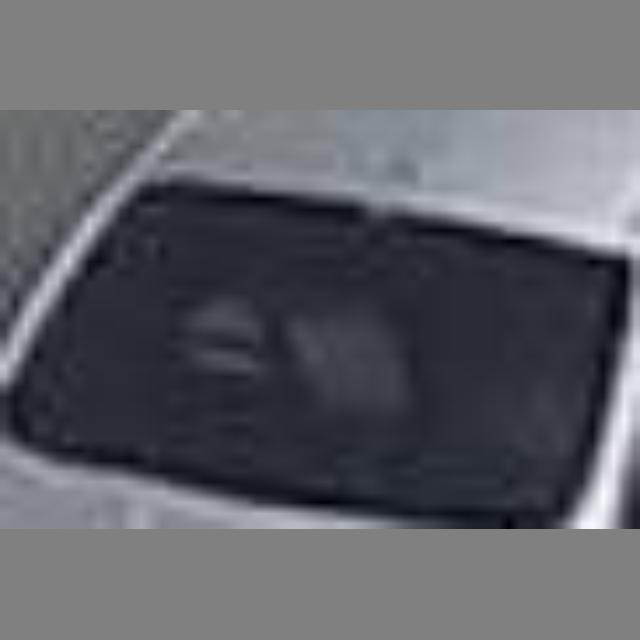pakai: (168, 225, 441, 425)
